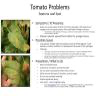Tomato Septoria leaf spot: (7, 26, 30, 51), (1, 60, 21, 85), (20, 57, 30, 77)
